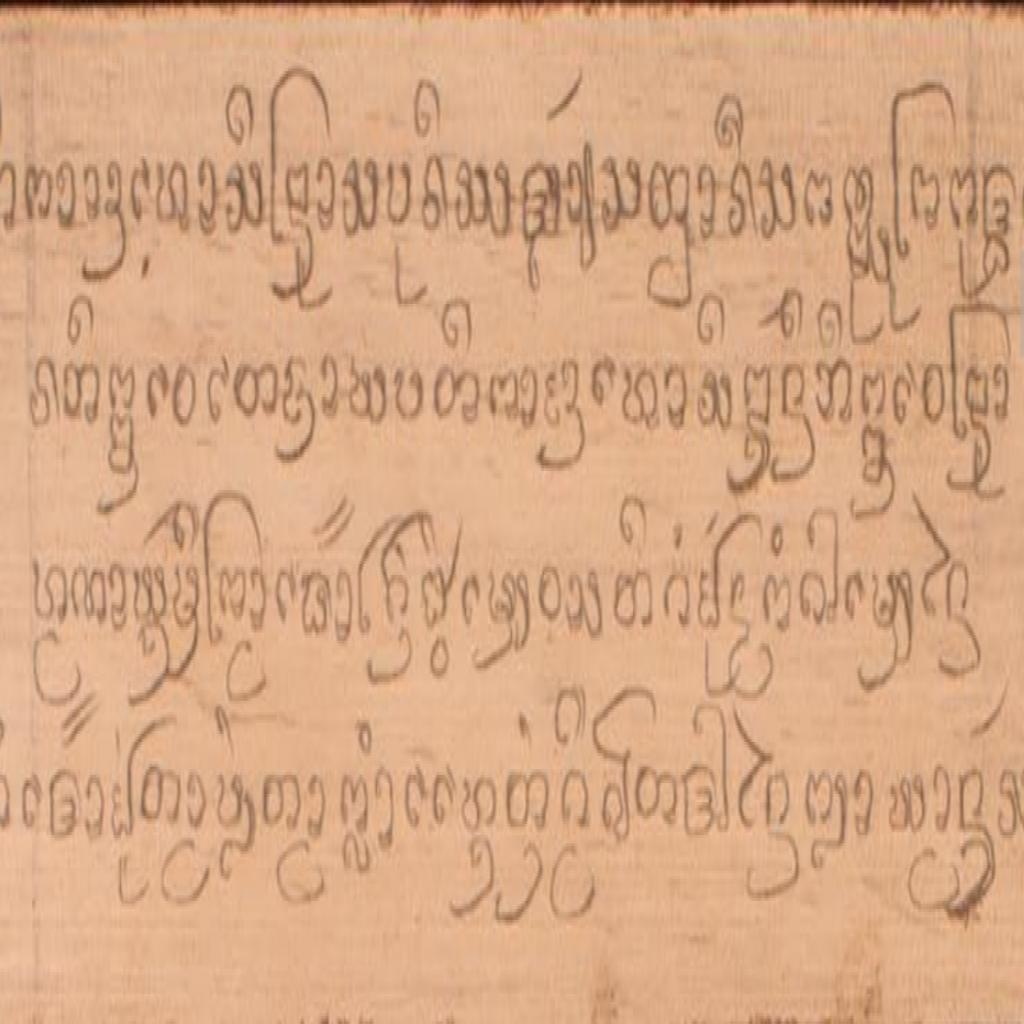LN017: (69, 557, 109, 636)
LN035: (919, 355, 950, 439)
